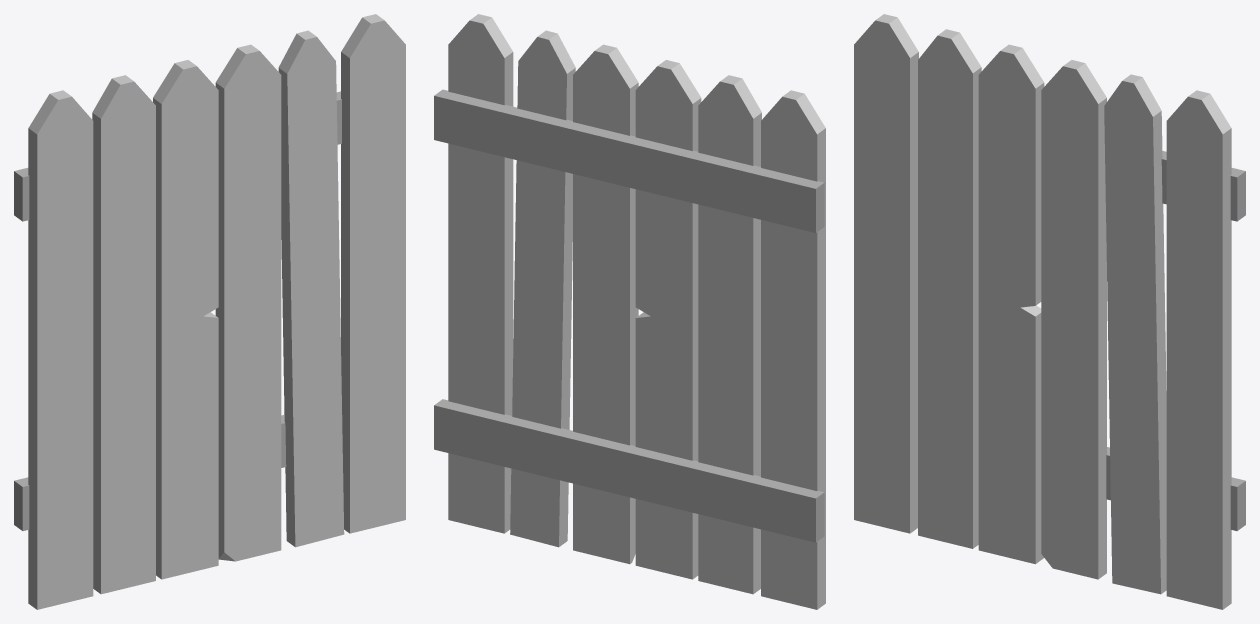
The model's file is Fence_06.fbx.
3 renders of one model, left to right at view 1: azimuth 30°, elevation 25°; view 2: azimuth 150°, elevation 25°; view 3: azimuth 330°, elevation 25°, orthographic.
Visible parts, largest first — view 1: Fence_06; view 2: Fence_06; view 3: Fence_06.
Part boxes in pixels (<box>): Fence_06: <box>14,14,405,609</box>; Fence_06: <box>434,14,825,609</box>; Fence_06: <box>854,14,1245,609</box>.
Size of the model in its own units: 102 by 129 by 7.66.
